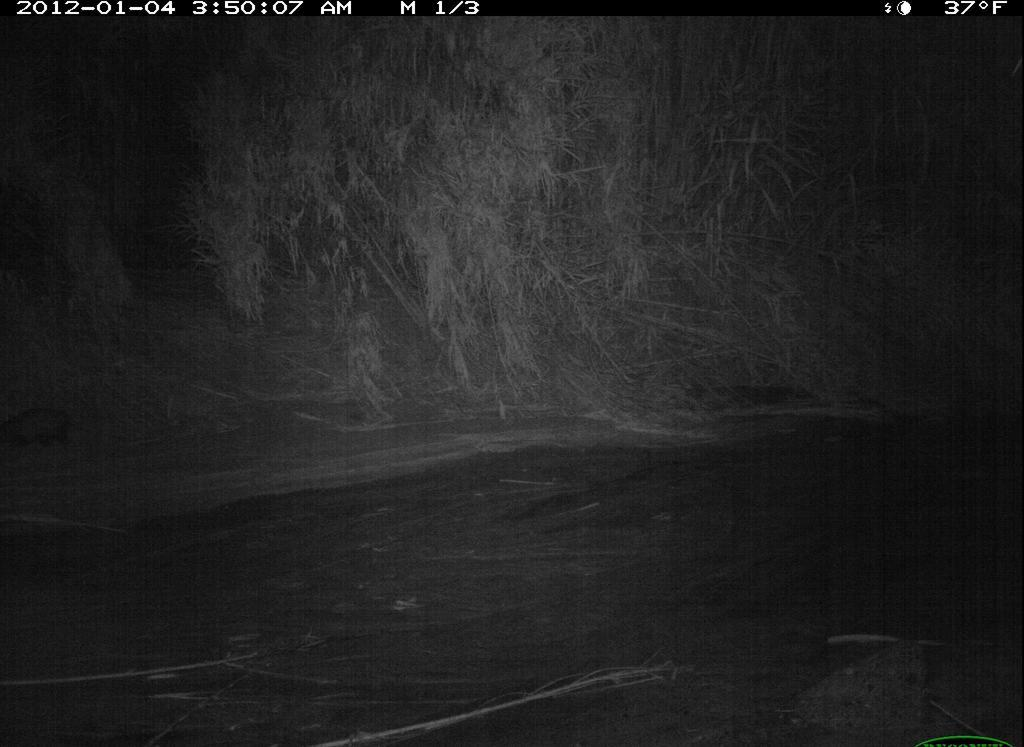opossum: (2, 397, 89, 461)
